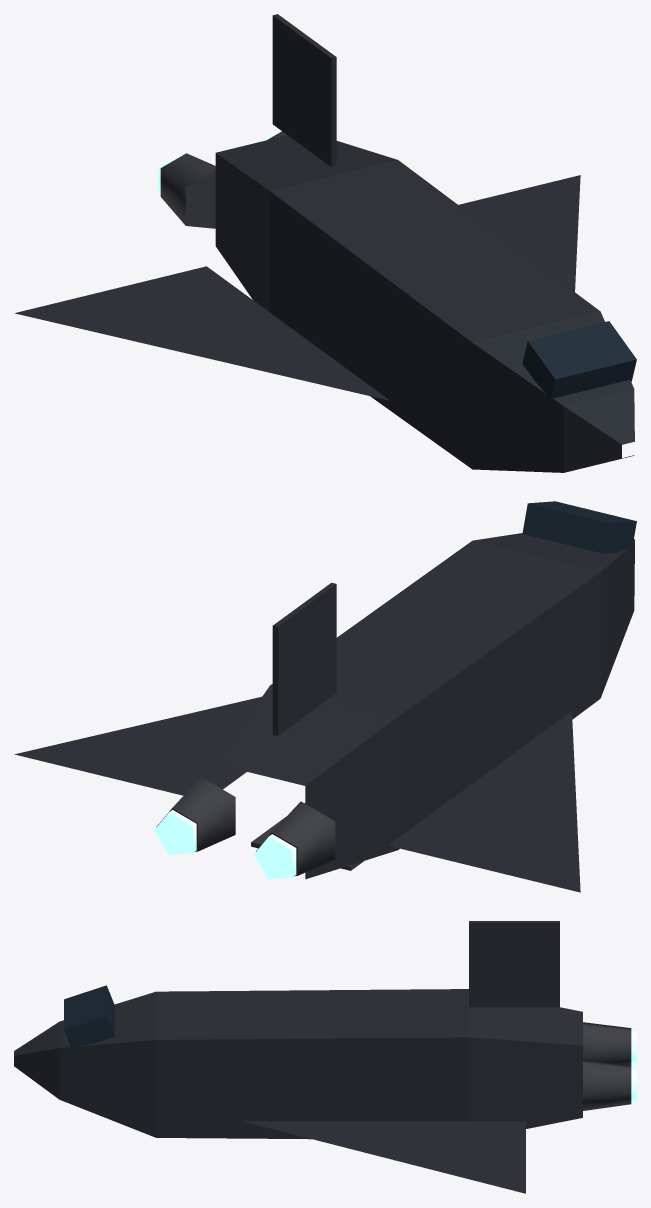
The model's file is space_ship_shuttle_mk4_lod1.glb.
The picture shows the model from 3 angles, top to bottom: view 1: azimuth 30°, elevation 25°; view 2: azimuth 150°, elevation 25°; view 3: azimuth 270°, elevation 25°; orthographic projection. The views are drawn at different scales.
Visible parts, largest first — view 1: body, engine_1; view 2: body, engine_1, engine_0; view 3: body, engine_0, engine_1.
Boxes of the visible parts, left/top/right/bottom form: body: left=15, top=14, right=636, bottom=472; engine_1: left=158, top=152, right=215, bottom=228; body: left=14, top=501, right=636, bottom=892; engine_1: left=254, top=801, right=335, bottom=879; engine_0: left=154, top=777, right=235, bottom=855; body: left=14, top=921, right=582, bottom=1193; engine_0: left=583, top=1060, right=636, bottom=1110; engine_1: left=583, top=1022, right=636, bottom=1065.
Size of the model in its own units: 10.88 by 4.61 by 13.4.
